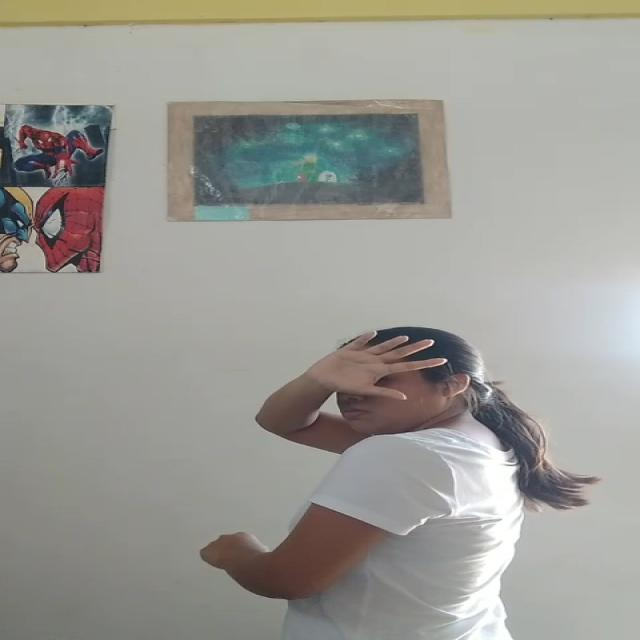7_mano_rostro: (260, 330, 440, 404)
